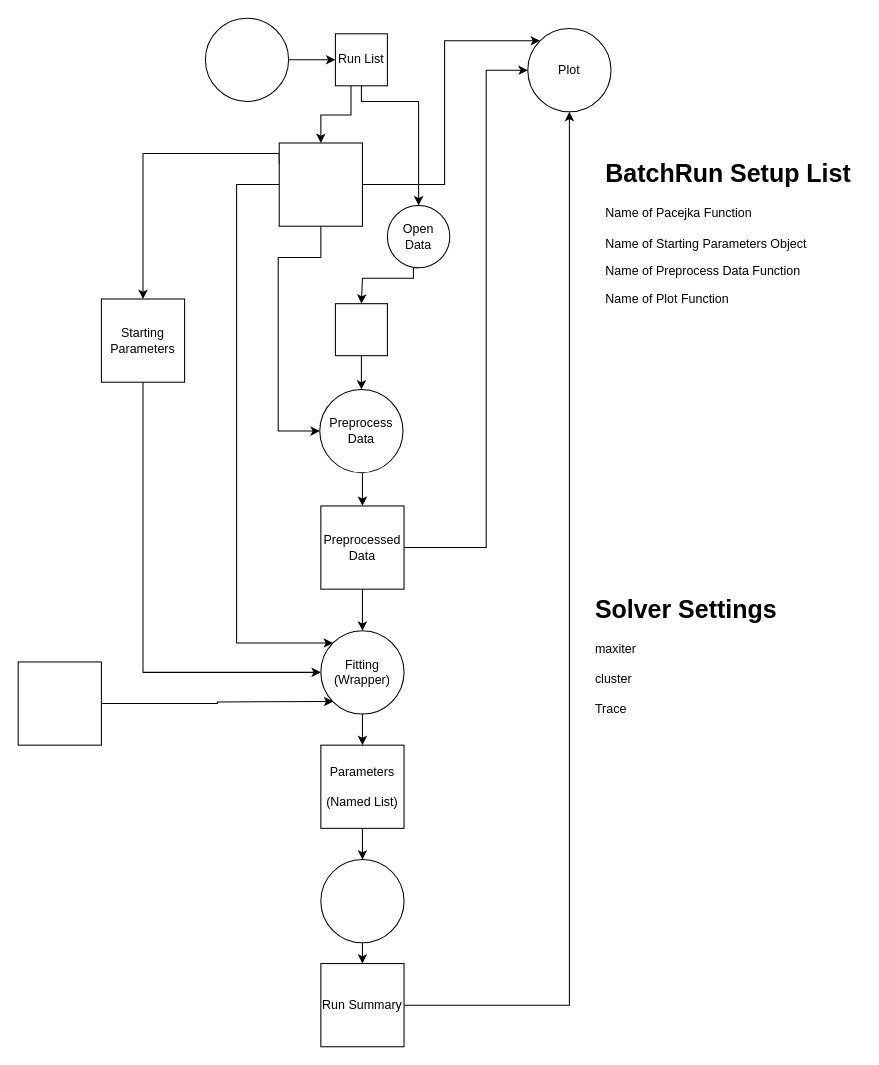
Image size: 879x1065. Some labels were removed from this diagram. Here are the shapes that lost their labels. From the top down, the centre of each, then its label:
the point at 246,59: Get Run List
the point at 320,184: BatchRun Setup List
the point at 360,329: Raw Data
the point at 59,703: Solver Settings
the point at 362,901: Append Run Summary
